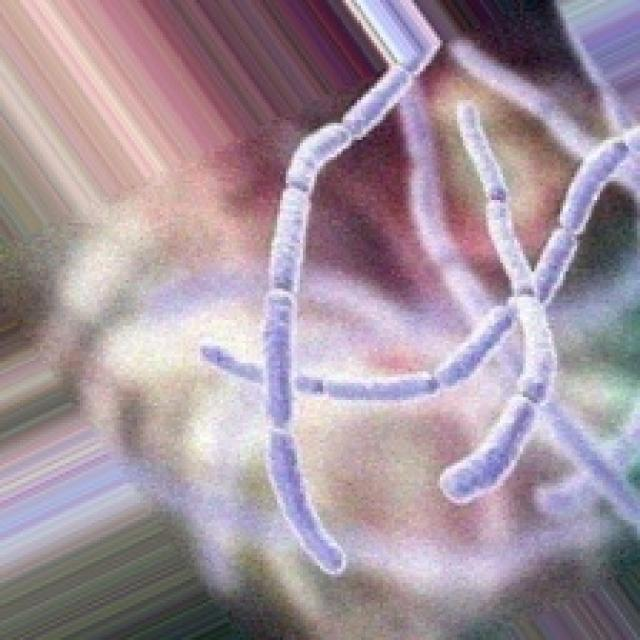Spiral_bacteria: (144, 31, 633, 579)
